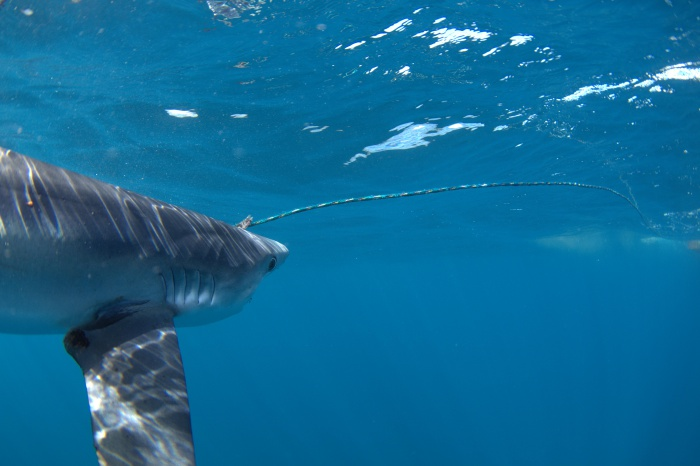Mako: (1, 134, 305, 466)
